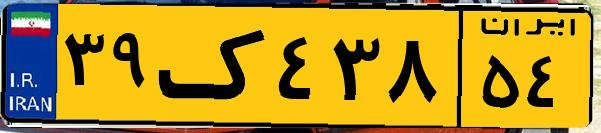3: (330, 28, 385, 110), (57, 26, 110, 100)
4: (270, 28, 330, 110), (525, 38, 570, 115)
5: (475, 38, 525, 113)
8: (385, 28, 445, 110)
9: (110, 28, 158, 98)
ک: (158, 12, 270, 120)
